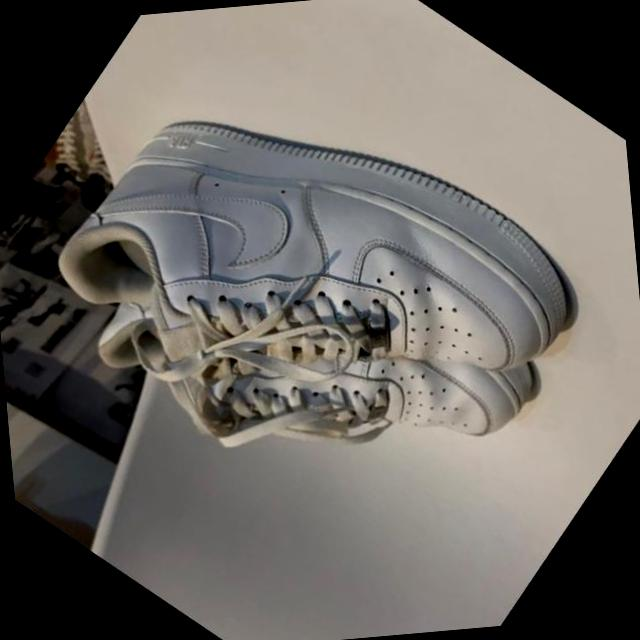nike_original_airforce: (26, 16, 604, 567)
